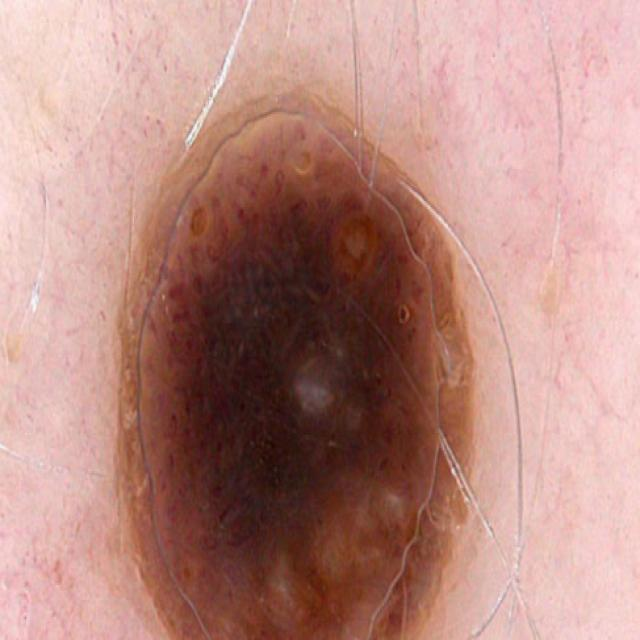Keratosis: (87, 64, 527, 640)
